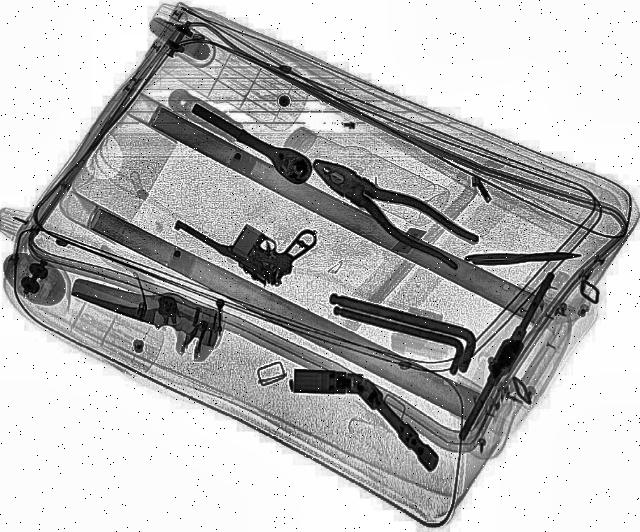Gun: (168, 178, 328, 292)
Pliers: (297, 146, 488, 274), (465, 250, 585, 268)
